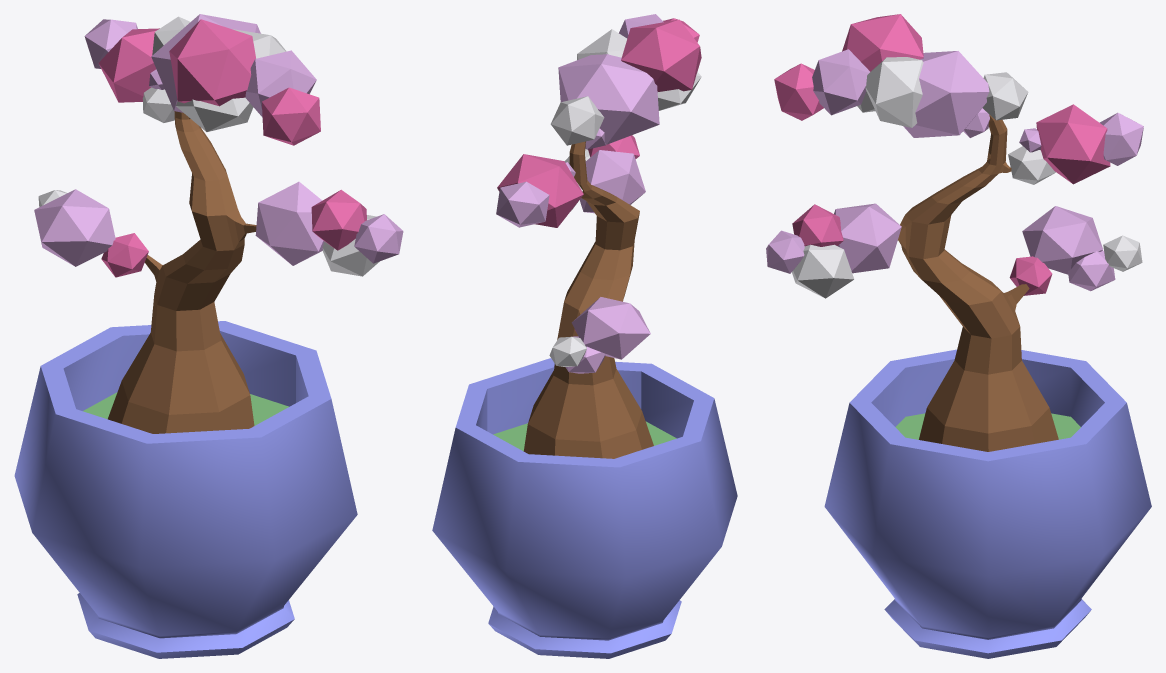
Rendered from low_poly_bonsai.glb.
3 views of the same model, side by side, from view 1: azimuth 30°, elevation 25°; view 2: azimuth 150°, elevation 25°; view 3: azimuth 270°, elevation 25° (orthographic). The views are drawn at different scales.
Parts seen in each view (by area): view 1: Cylinder_3, Cylinder.001_4, Icosphere.010_12, Icosphere.003_7, Icosphere.004_8, Icosphere.009_17, Icosphere.020_24, Icosphere.001_6, Icosphere.013_15, Icosphere_5, Icosphere.006_16, Icosphere.005_9 (+6 smaller); view 2: Cylinder_3, Cylinder.001_4, Icosphere.005_9, Icosphere.010_12, Icosphere.003_7, Icosphere.009_17, Icosphere.004_8, Icosphere.014_18, Icosphere.016_20, Icosphere.015_19, Icosphere.017_23, Icosphere.006_16 (+3 smaller); view 3: Cylinder_3, Cylinder.001_4, Icosphere.005_9, Icosphere.009_17, Icosphere.003_7, Icosphere.004_8, Icosphere.017_23, Icosphere.010_12, Icosphere.001_6, Icosphere.012_14, Icosphere.020_24, Icosphere.014_18 (+7 smaller).
Boxes of the visible parts, bbox=[...] form: Cylinder_3: bbox=[14, 321, 357, 658]; Cylinder.001_4: bbox=[108, 111, 256, 433]; Icosphere.010_12: bbox=[169, 19, 255, 106]; Icosphere.003_7: bbox=[34, 189, 115, 266]; Icosphere.004_8: bbox=[255, 181, 324, 265]; Icosphere.009_17: bbox=[98, 28, 159, 102]; Icosphere.020_24: bbox=[262, 87, 320, 145]; Icosphere.001_6: bbox=[245, 50, 316, 117]; Icosphere.013_15: bbox=[311, 189, 366, 250]; Icosphere_5: bbox=[354, 214, 403, 263]; Icosphere.006_16: bbox=[176, 97, 253, 131]; Icosphere.005_9: bbox=[151, 14, 260, 112]; Cylinder_3: bbox=[432, 358, 737, 658]; Cylinder.001_4: bbox=[523, 141, 653, 458]; Icosphere.005_9: bbox=[558, 54, 659, 144]; Icosphere.010_12: bbox=[621, 19, 701, 91]; Icosphere.003_7: bbox=[571, 297, 650, 359]; Icosphere.009_17: bbox=[497, 154, 583, 227]; Icosphere.004_8: bbox=[579, 150, 645, 213]; Icosphere.014_18: bbox=[496, 181, 549, 227]; Icosphere.016_20: bbox=[550, 96, 604, 145]; Icosphere.015_19: bbox=[549, 336, 586, 366]; Icosphere.017_23: bbox=[577, 29, 626, 59]; Icosphere.006_16: bbox=[657, 72, 701, 110]; Cylinder_3: bbox=[824, 349, 1151, 658]; Cylinder.001_4: bbox=[898, 115, 1058, 451]; Icosphere.005_9: bbox=[903, 51, 989, 137]; Icosphere.009_17: bbox=[1036, 104, 1110, 184]; Icosphere.003_7: bbox=[1022, 206, 1103, 274]; Icosphere.004_8: bbox=[834, 203, 901, 273]; Icosphere.017_23: bbox=[865, 57, 923, 127]; Icosphere.010_12: bbox=[842, 14, 923, 71]; Icosphere.001_6: bbox=[812, 49, 869, 115]; Icosphere.012_14: bbox=[791, 244, 854, 298]; Icosphere.020_24: bbox=[774, 63, 823, 120]; Icosphere.014_18: bbox=[1099, 112, 1143, 165].
Size of the model in its own units: 0.2667 by 0.5298 by 0.3143.
